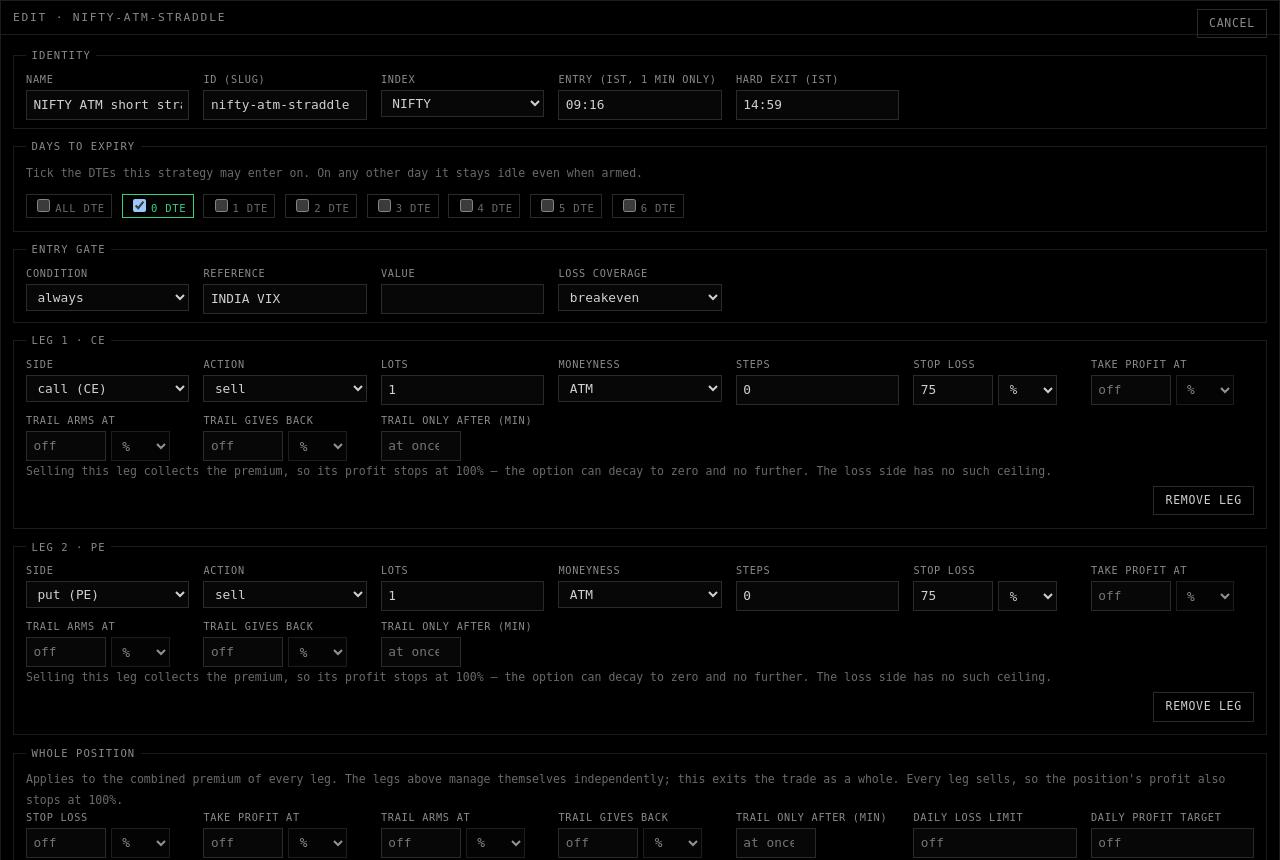
it: dte selection › warns when no DTE is selected at all
The width and height of the screenshot is (1280, 860).
Click the checkbox labelled "0 DTE" at (140, 205), box [133, 199, 146, 212]
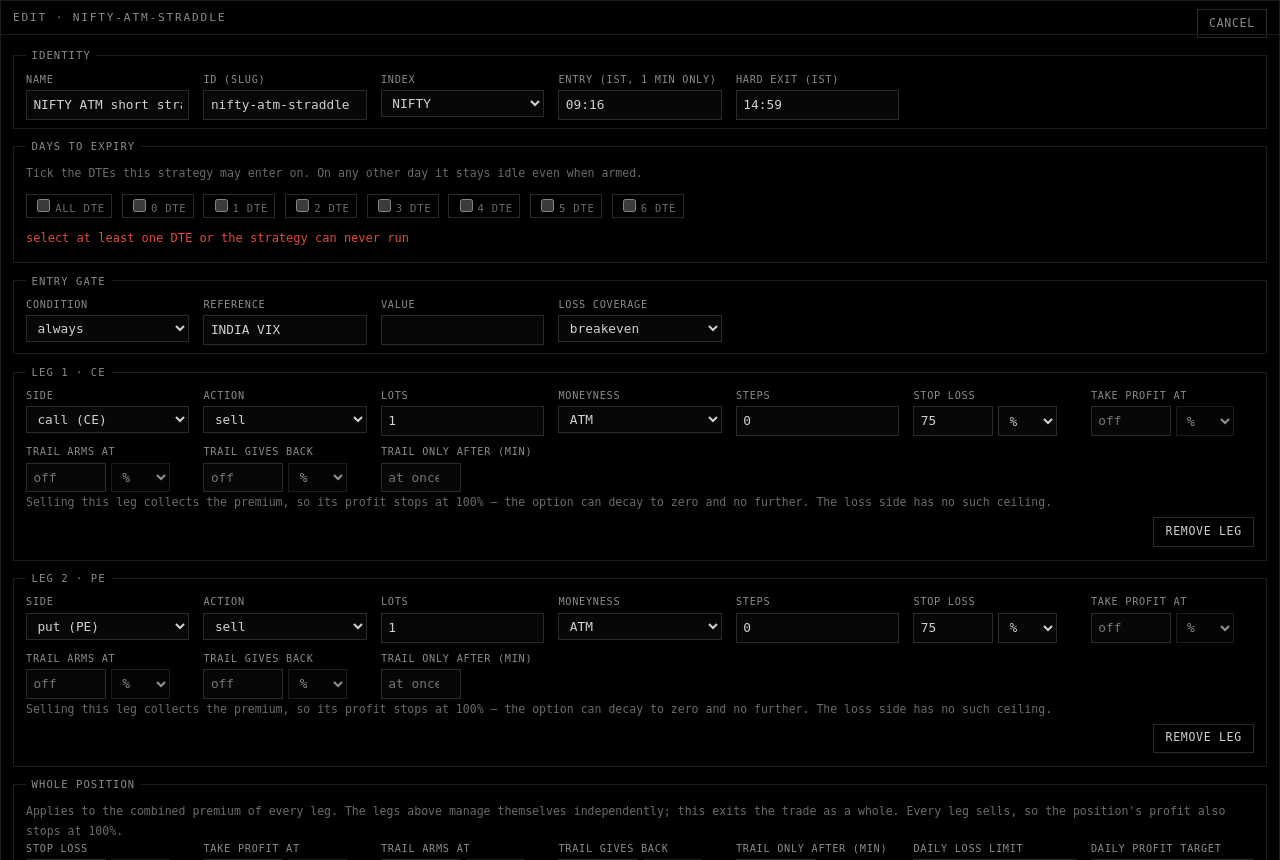
Now the text "select at least one DTE or the strategy can never run" is shown, box [26, 231, 409, 245]
